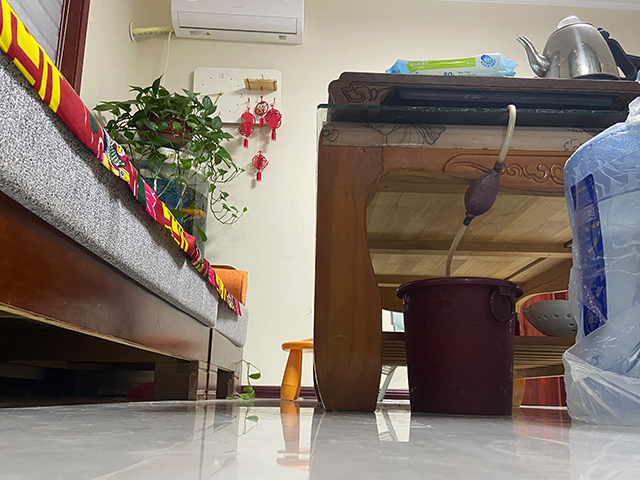sofa: (1, 1, 249, 402)
stool: (278, 338, 317, 402)
table: (311, 70, 640, 413)
trashcan: (394, 274, 526, 418)
